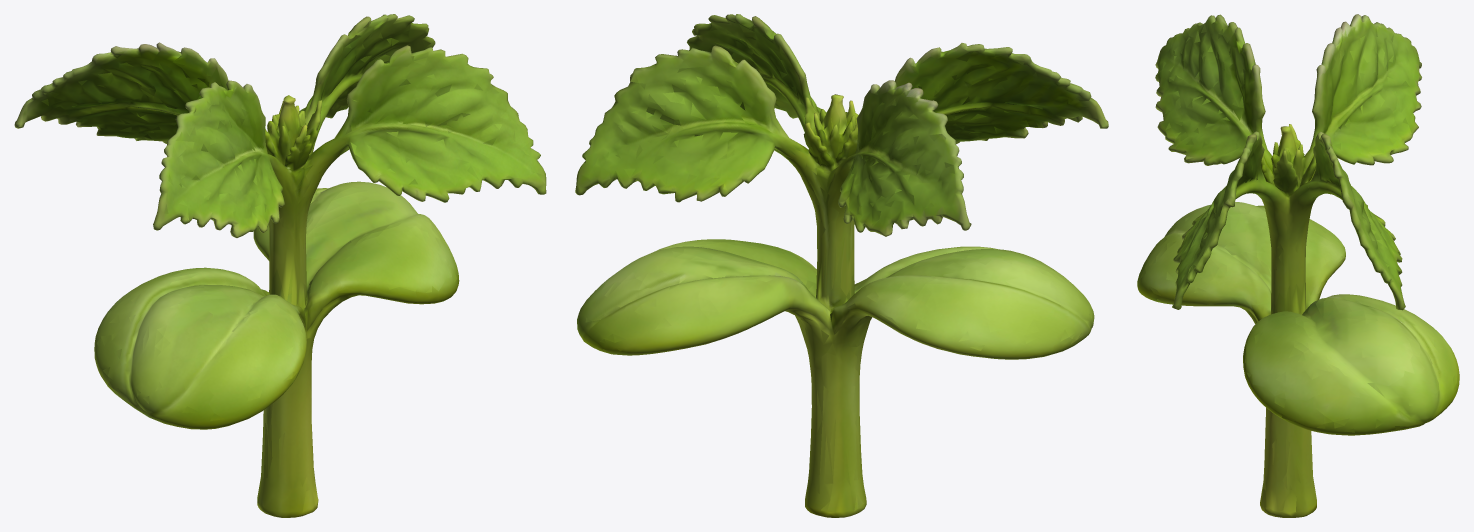
File: sunflower-seedling.glb
3 renders of one model, left to right at view 1: azimuth 30°, elevation 25°; view 2: azimuth 150°, elevation 25°; view 3: azimuth 270°, elevation 25°, orthographic. The views are drawn at different scales.
Visible parts, largest first — view 1: SunflowerSeedling; view 2: SunflowerSeedling; view 3: SunflowerSeedling.
Boxes of the visible parts, bbox=[...] form: SunflowerSeedling: bbox=[14, 14, 546, 517]; SunflowerSeedling: bbox=[575, 14, 1108, 517]; SunflowerSeedling: bbox=[1137, 14, 1459, 517].
Size of the model in its own units: 0.2725 by 0.3003 by 0.2011.
1 material, 1 textured.
